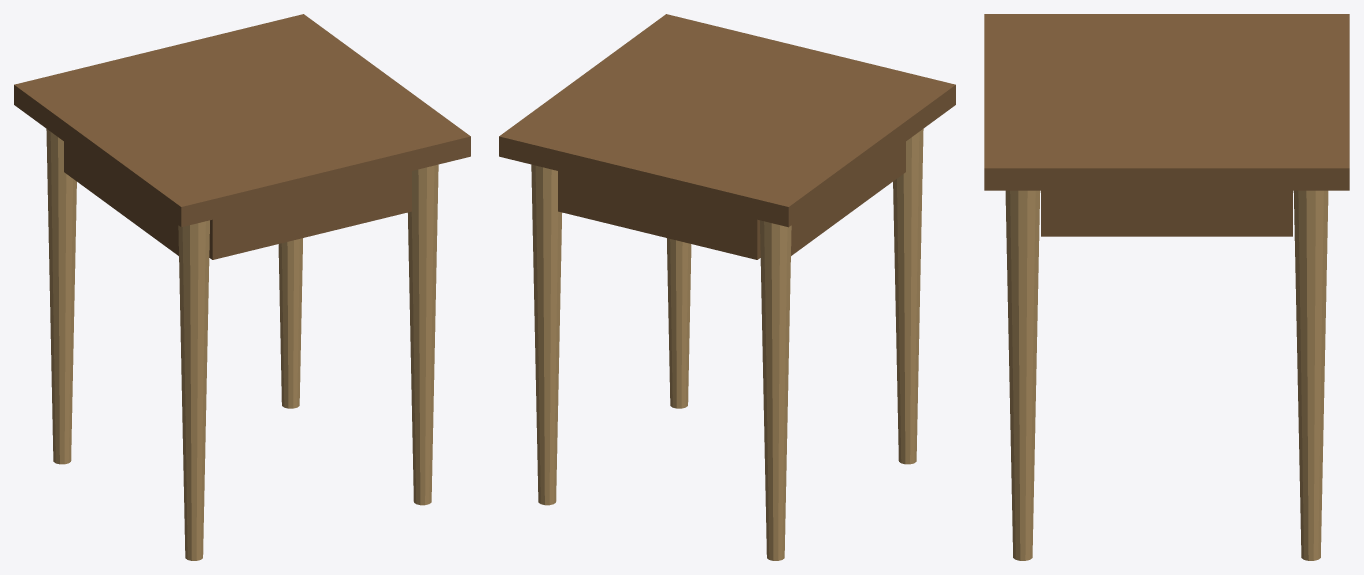
File: ATL-SID-std.glb
3 renders of one model, left to right at view 1: azimuth 30°, elevation 25°; view 2: azimuth 150°, elevation 25°; view 3: azimuth 270°, elevation 25°, orthographic. The views are drawn at different scales.
Parts seen in each view (by area): view 1: top:pbr, leg-fl:pbr, leg-fr:pbr, apron-f:pbr, leg-bl:pbr, leg-br:pbr, apron-l:pbr; view 2: top:pbr, leg-bl:pbr, leg-br:pbr, apron-b:pbr, leg-fl:pbr, leg-fr:pbr, apron-l:pbr; view 3: top:pbr, apron-r:pbr, leg-fr:pbr, leg-br:pbr.
Part boxes in pixels (<box>): top:pbr: <box>14,14,470,227</box>; leg-fl:pbr: <box>178,220,209,560</box>; leg-fr:pbr: <box>408,164,438,505</box>; apron-f:pbr: <box>209,171,411,259</box>; leg-bl:pbr: <box>46,129,76,464</box>; leg-br:pbr: <box>278,238,302,408</box>; apron-l:pbr: <box>64,141,178,255</box>; top:pbr: <box>499,14,955,227</box>; leg-bl:pbr: <box>760,220,791,560</box>; leg-br:pbr: <box>531,164,561,505</box>; apron-b:pbr: <box>558,171,760,259</box>; leg-fl:pbr: <box>893,129,923,464</box>; leg-fr:pbr: <box>667,238,691,408</box>; apron-l:pbr: <box>791,141,905,255</box>; top:pbr: <box>984,14,1349,190</box>; apron-r:pbr: <box>1041,190,1292,236</box>; leg-fr:pbr: <box>1005,190,1040,560</box>; leg-br:pbr: <box>1293,190,1328,560</box>.
Size of the model in its own units: 0.45 by 0.55 by 0.45.
